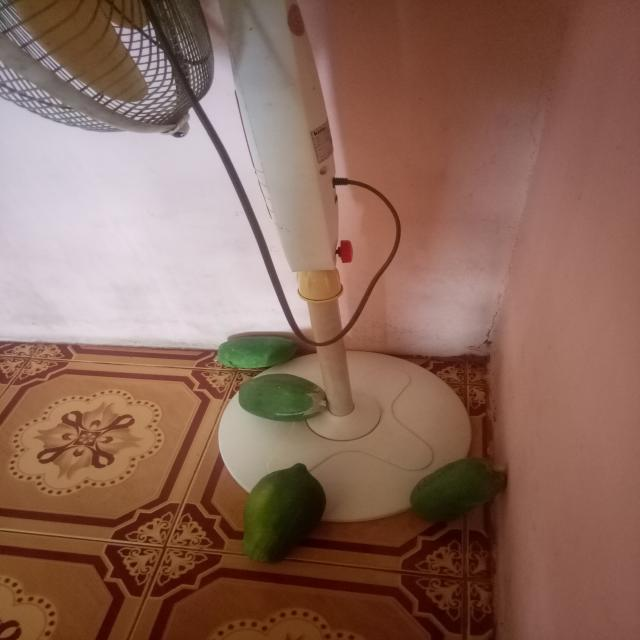Pepaya unrippen: (226, 462, 327, 574), (230, 376, 344, 428), (205, 333, 321, 378), (403, 462, 495, 518)
